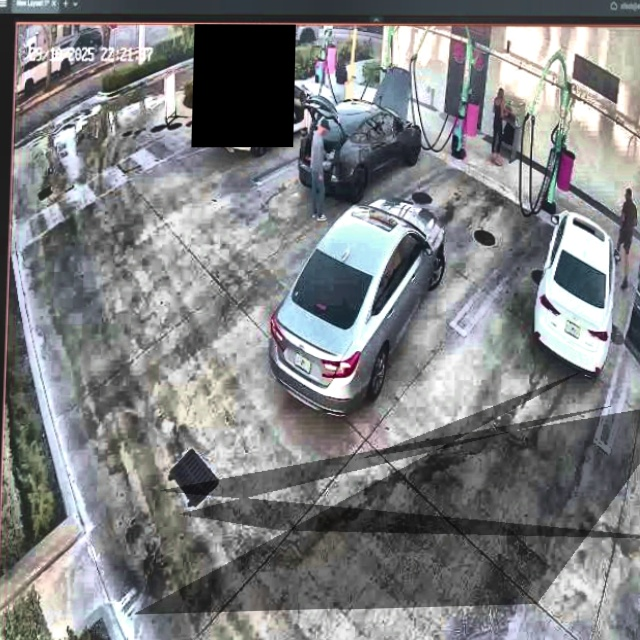Car: (269, 195, 448, 414), (297, 67, 423, 200), (208, 72, 333, 165)
